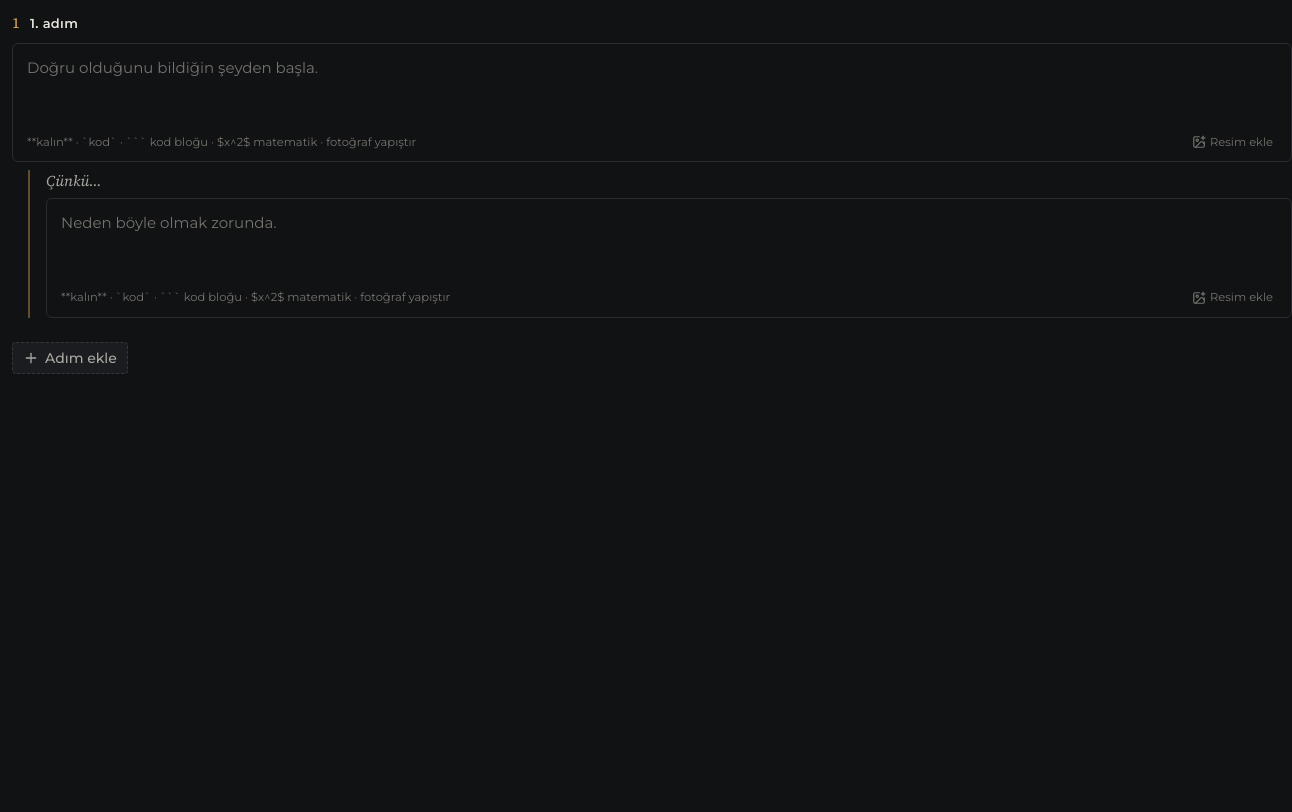
Test: TaskFields › in Turkish › words a derivation's steps
This screenshot has width=1292, height=812.
What coordinates should you click on to do the following:
click the button "Adım ekle"
I would click on:
 (70, 358)
Its box is x1=12 y1=342 x2=128 y2=374.
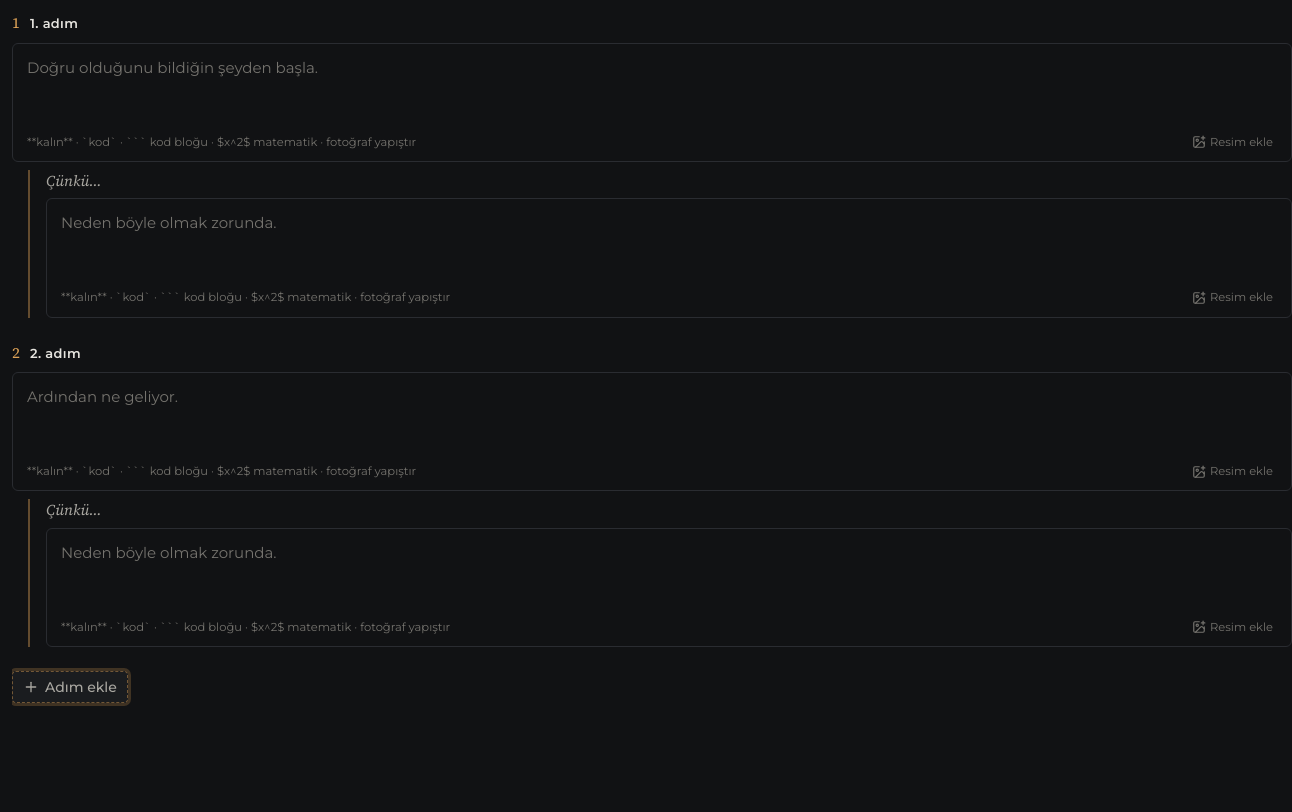
Expected: the field named "2. adım" is shown, x1=13 y1=373 x2=1291 y2=461
Expected: the number of fields named "Çünkü…" is 2, x1=47 y1=199 x2=1291 y2=287; x1=47 y1=529 x2=1291 y2=617
